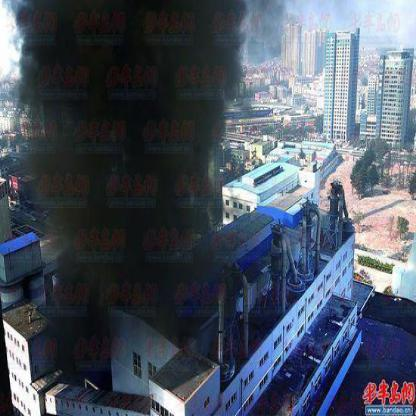smoke: (48, 0, 235, 109), (20, 121, 232, 212), (61, 217, 224, 310), (58, 310, 132, 378), (7, 0, 41, 115), (239, 2, 287, 73)
